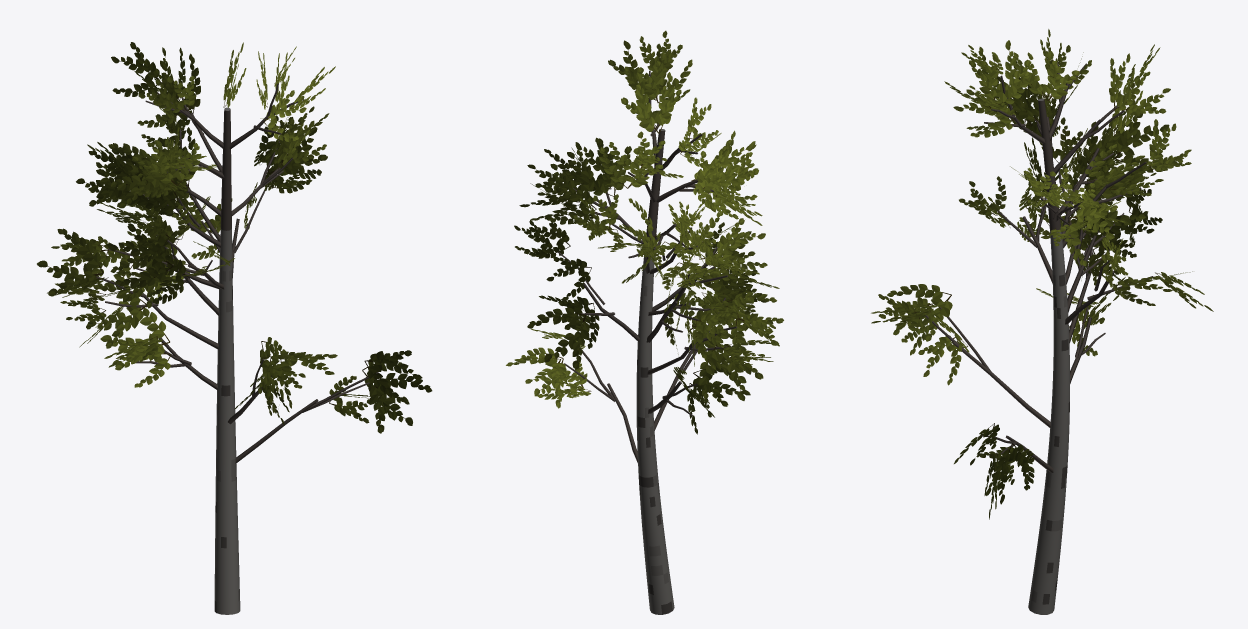
File: birch_2_burnt2.glb
3 views of the same model, side by side, from view 1: azimuth 30°, elevation 25°; view 2: azimuth 150°, elevation 25°; view 3: azimuth 270°, elevation 25° (orthographic). The views are drawn at different scales.
Parts seen in each view (by area): view 1: birch_2_burnt2; view 2: birch_2_burnt2; view 3: birch_2_burnt2.
Boxes of the visible parts, box(x1,y1,x2,y2) form: birch_2_burnt2: box(37, 42, 432, 614); birch_2_burnt2: box(506, 30, 783, 614); birch_2_burnt2: box(871, 29, 1213, 614).
Bounding box in the file's own units: 6.74 × 10.05 × 6.
5 materials, 1 textured.
